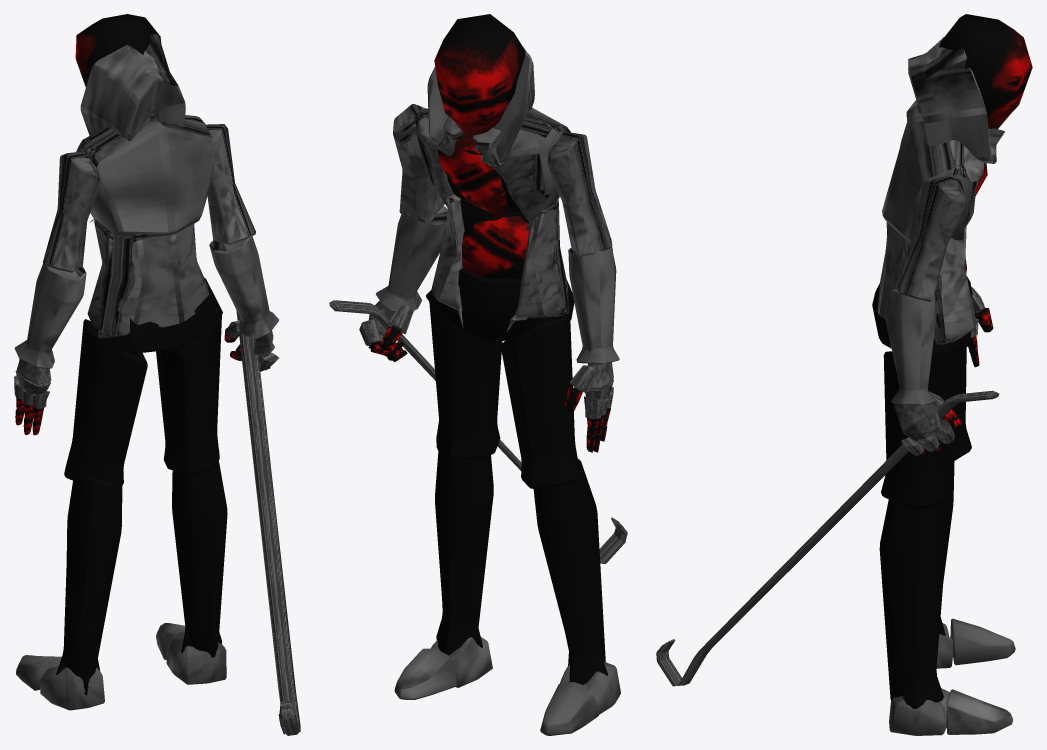
File: The Stranger.fbx
The picture shows the model from 3 angles, left to right: view 1: azimuth 30°, elevation 25°; view 2: azimuth 150°, elevation 25°; view 3: azimuth 270°, elevation 25°; orthographic projection. The views are drawn at different scales.
Visible parts, largest first — view 1: Cube.004, Cube.003, Cube.007, Cube.006, Cube.008, Cube.009, Cube.005, Cube.001, Cube.012, Cube.013, Cube.010, Cube.011 (+7 smaller); view 2: Cube.003, Cube.006, Cube.007, Cube.008, Cube.004, Cube.009, Cube, Cube.012, Cube.002, Cube.013, Cube.005, Cube.010 (+7 smaller); view 3: Cube.008, Cube.005, Cube.004, Cube.009, Cube, Cube.011, Cube.003, Cube.010, Cube.001, Cube.021, Cube.023, Cube.017 (+4 smaller).
Part boxes in pixels (box(x1,y1,x2,y2)): Cube.004: box(76, 114, 214, 237); Cube.003: box(87, 219, 209, 338); Cube.007: box(56, 475, 122, 695); Cube.006: box(64, 319, 147, 485); Cube.008: box(172, 461, 227, 657); Cube.009: box(156, 315, 221, 474); Cube.005: box(80, 34, 185, 141); Cube.001: box(236, 310, 300, 735); Cube.012: box(42, 151, 99, 272); Cube.013: box(14, 264, 86, 368); Cube.010: box(209, 236, 278, 338); Cube.011: box(206, 124, 255, 244); Cube.003: box(431, 194, 568, 331); Cube.006: box(501, 311, 579, 488); Cube.007: box(533, 459, 608, 684); Cube.008: box(435, 451, 493, 655); Cube.004: box(415, 107, 570, 229); Cube.009: box(429, 302, 502, 461); Cube: box(434, 14, 525, 138); Cube.012: box(547, 131, 612, 257); Cube.002: box(426, 268, 574, 343); Cube.013: box(568, 247, 619, 364); Cube.005: box(427, 47, 534, 166); Cube.010: box(375, 205, 447, 311); Cube.008: box(879, 499, 944, 708); Cube.005: box(908, 36, 1004, 163); Cube.004: box(882, 106, 987, 242); Cube.009: box(881, 351, 958, 509); Cube: box(939, 14, 1032, 128); Cube.011: box(895, 176, 966, 301); Cube.003: box(877, 222, 978, 345); Cube.010: box(885, 289, 936, 405); Cube.001: box(656, 390, 999, 686); Cube.021: box(946, 689, 1012, 734); Cube.023: box(950, 618, 1015, 665); Cube.017: box(889, 688, 949, 735).
Size of the model in its own units: 734 by 1802 by 901.
7 materials, 7 textured.
